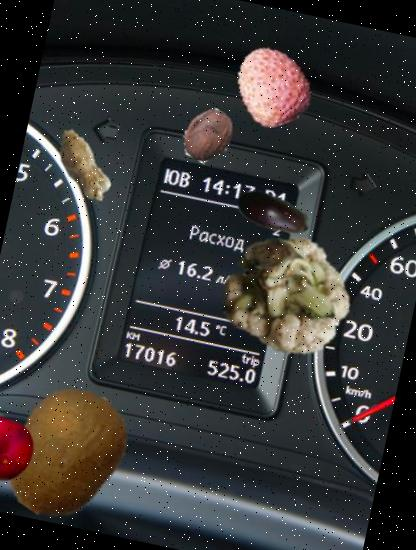Cauliflower: (206, 222, 362, 377)
Cocos: (175, 103, 241, 169)
Eggplant: (226, 167, 321, 261)
Ginger: (35, 119, 130, 213)
Kiwi: (0, 372, 145, 532)
Lychee: (224, 37, 322, 134)
Nectarine: (0, 407, 40, 489)
